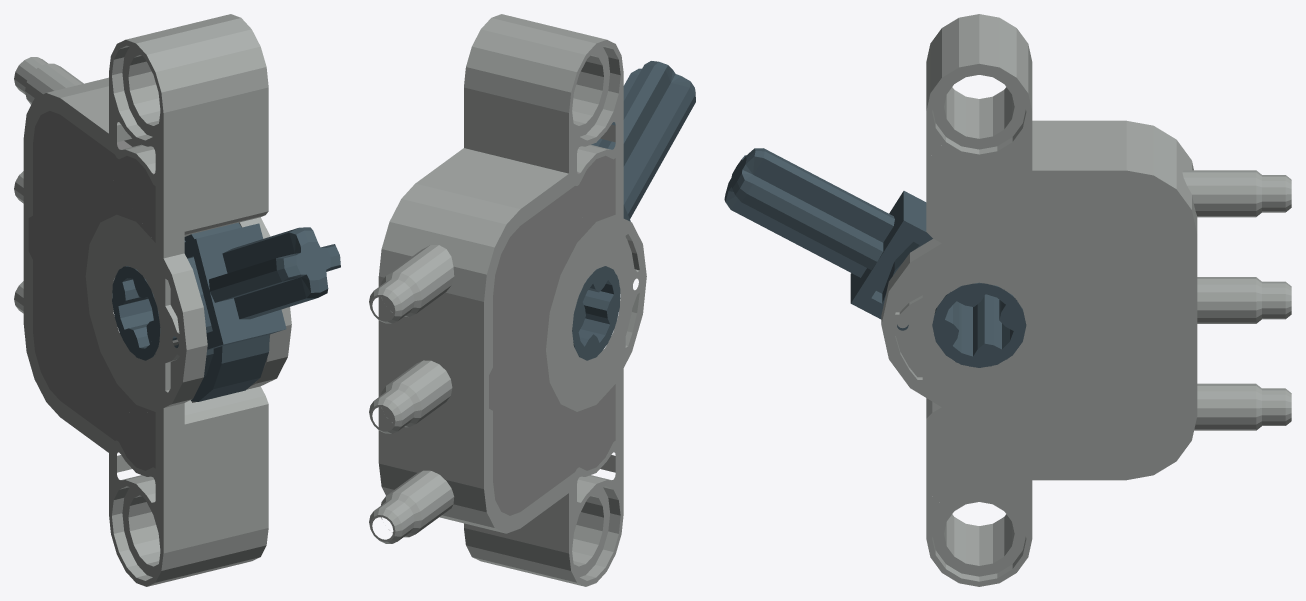
3 renders of one model, left to right at view 1: azimuth 30°, elevation 25°; view 2: azimuth 150°, elevation 25°; view 3: azimuth 270°, elevation 25°, orthographic. The views are drawn at different scales.
Visible parts, largest first — view 1: world; view 2: world; view 3: world.
Boxes of the visible parts, bbox=[...] form: world: bbox=[14, 14, 340, 586]; world: bbox=[369, 14, 695, 586]; world: bbox=[724, 14, 1291, 586].
Size of the model in its own units: 0.008 by 0.0392 by 0.0385.
